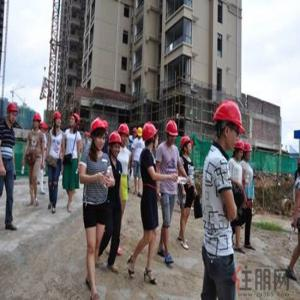red: (213, 101, 242, 153), (91, 117, 107, 150), (143, 122, 160, 151), (165, 120, 178, 145), (109, 132, 122, 157), (118, 123, 130, 147), (180, 137, 193, 156), (7, 103, 18, 125), (234, 143, 245, 161), (70, 114, 81, 130), (53, 111, 62, 130), (244, 142, 252, 162), (33, 113, 41, 131), (40, 122, 48, 135), (132, 128, 138, 138), (84, 133, 90, 142)
yellow: (138, 127, 144, 140)
